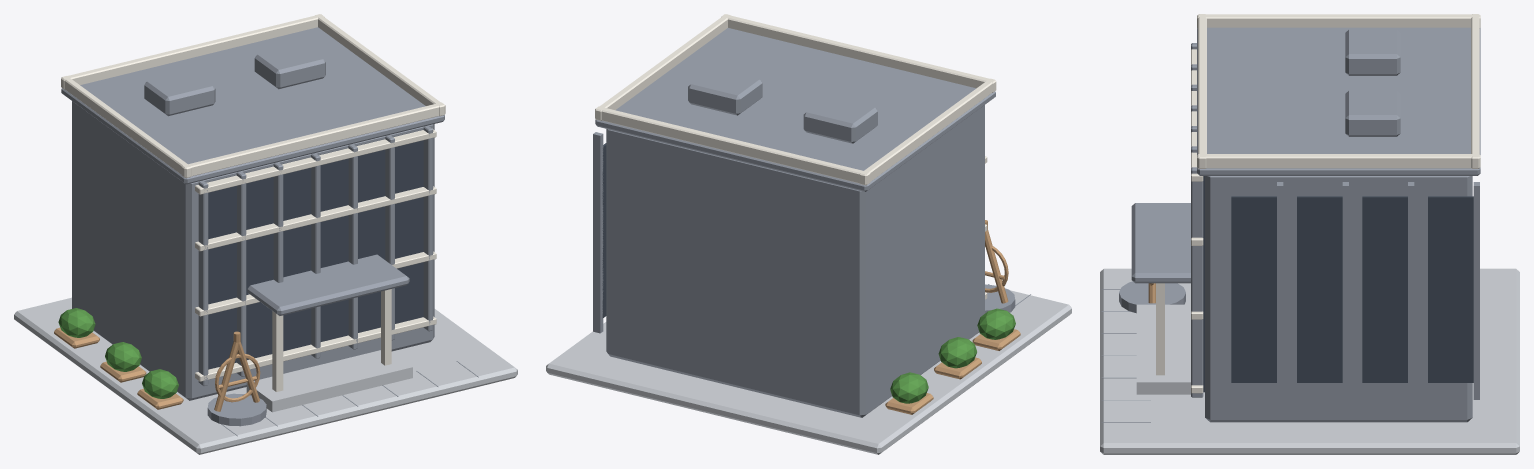
File: building.glb
3 renders of one model, left to right at view 1: azimuth 30°, elevation 25°; view 2: azimuth 150°, elevation 25°; view 3: azimuth 270°, elevation 25°, orthographic. The views are drawn at different scales.
Visible parts, largest first — view 1: building; view 2: building; view 3: building.
Boxes of the visible parts, x1,y1,x2,y2 form: building: (14,14,517,454); building: (546,14,1071,454); building: (1100,14,1519,454).
Bounding box in the file's own units: 8 × 6.18 × 8.
1 material, 1 textured.
